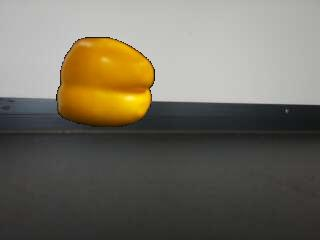Capsicum: (56, 36, 155, 128)
